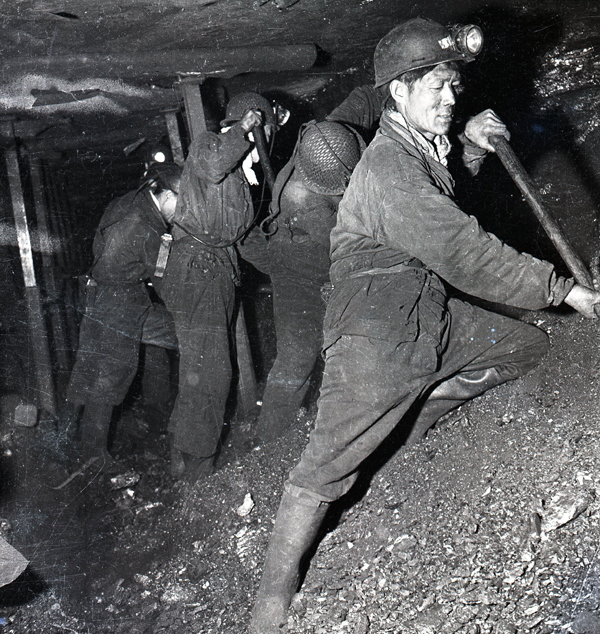helmet: (365, 21, 490, 136)
